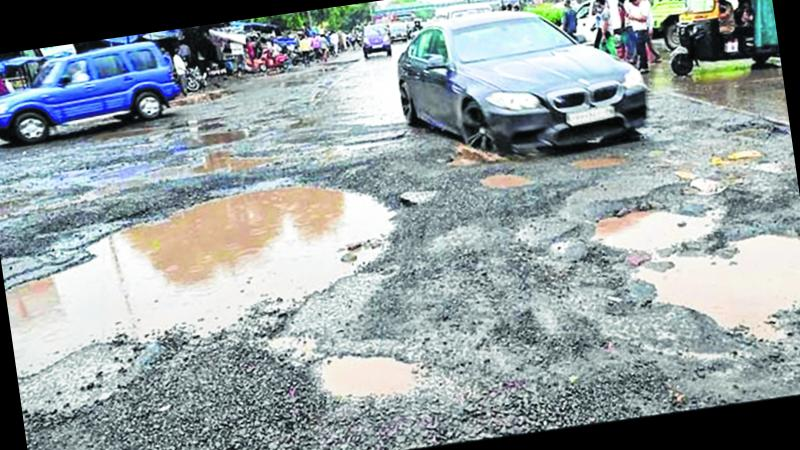pothole: (0, 155, 425, 397), (603, 224, 800, 369), (85, 131, 302, 204), (298, 326, 439, 429), (564, 182, 736, 261), (150, 116, 272, 157), (432, 126, 516, 182), (140, 80, 241, 126), (712, 132, 788, 189), (672, 154, 744, 206), (555, 144, 642, 183), (331, 124, 410, 160), (714, 109, 774, 151), (471, 168, 543, 201)
